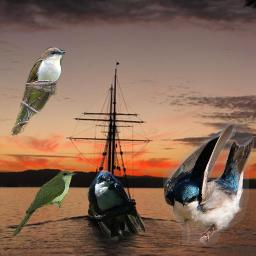Cuckoo: (9, 46, 65, 137), (12, 170, 77, 238)
Swallow: (163, 122, 255, 245), (86, 170, 148, 244)
